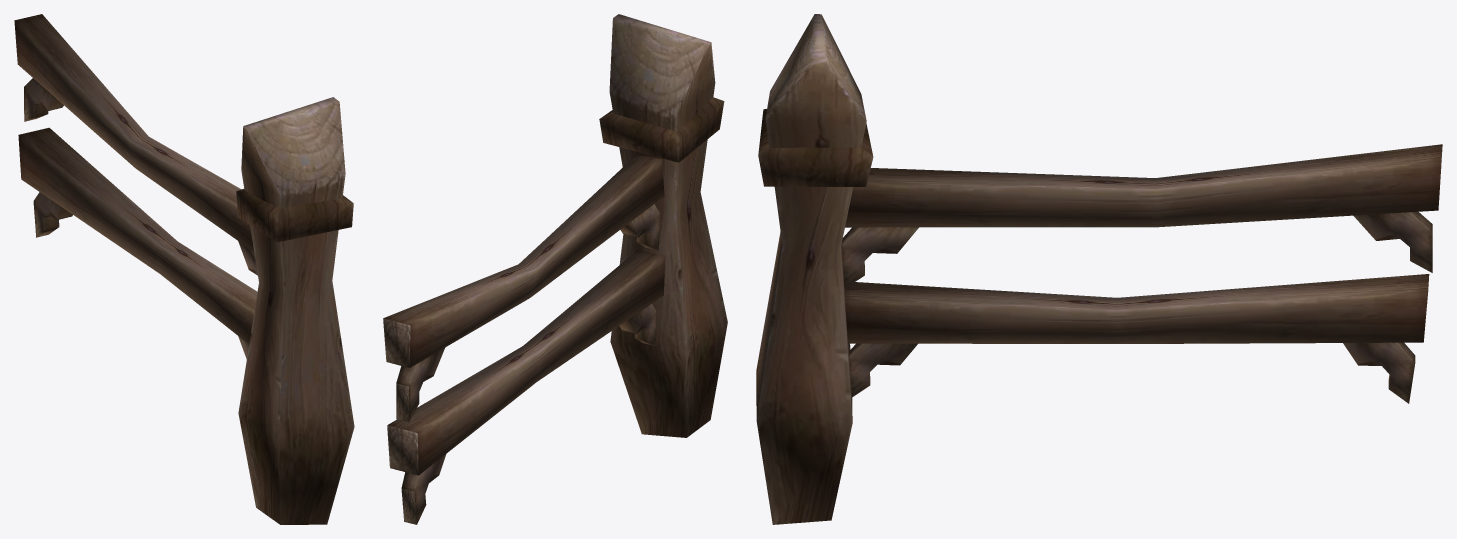
3 views of the same model, side by side, from view 1: azimuth 30°, elevation 25°; view 2: azimuth 150°, elevation 25°; view 3: azimuth 270°, elevation 25° (orthographic). The views are drawn at different scales.
Bounding box in the file's own units: 0.5049 × 2.11 × 2.73.
Materials: 1 (1 with a texture image).
